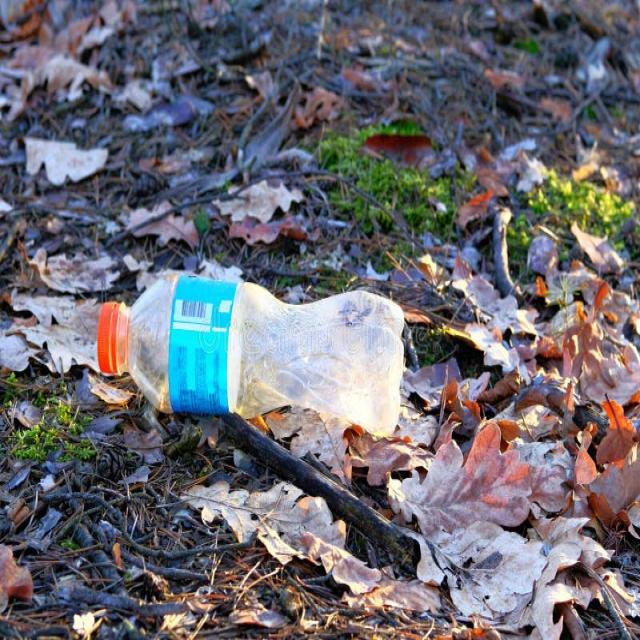plastic bottle: (70, 267, 437, 431)
